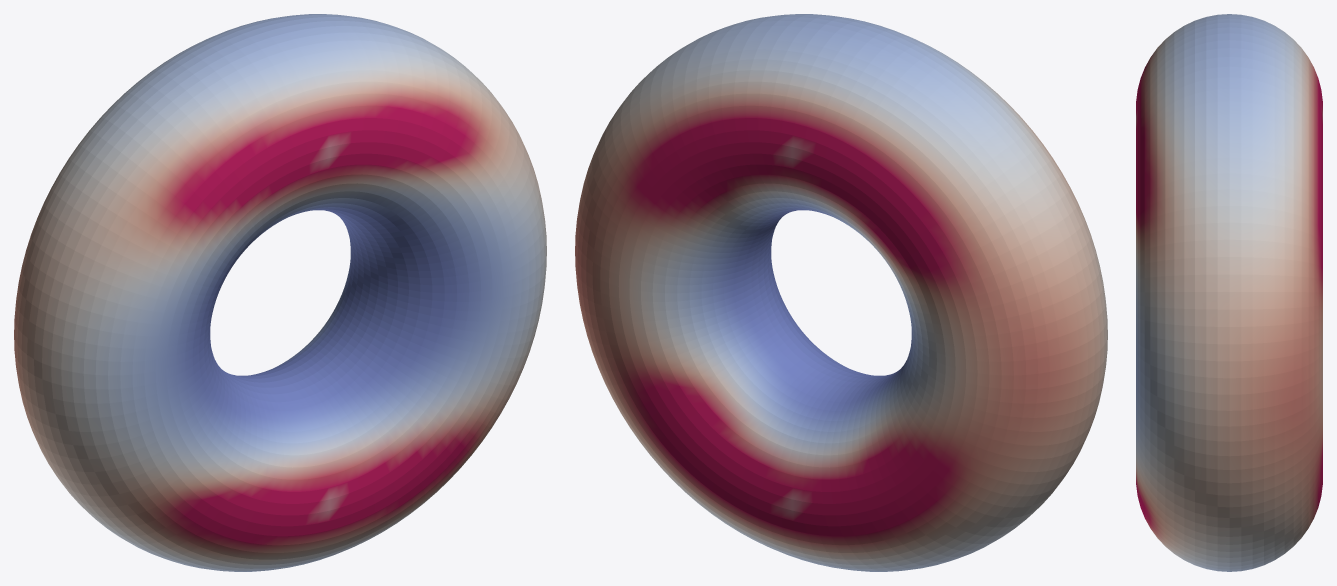
3 renders of one model, left to right at view 1: azimuth 30°, elevation 25°; view 2: azimuth 150°, elevation 25°; view 3: azimuth 270°, elevation 25°, orthographic. The views are drawn at different scales.
Visible parts, largest first — view 1: world; view 2: world; view 3: world.
Boxes of the visible parts, <box> form: world: <box>14,14,546,571</box>; world: <box>575,14,1107,571</box>; world: <box>1136,14,1322,571</box>.
Size of the model in its own units: 21.07 by 21.07 by 7.05.
